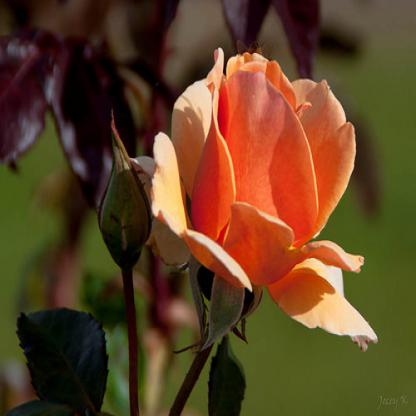ROSE-MAWAR: (143, 28, 381, 367)
